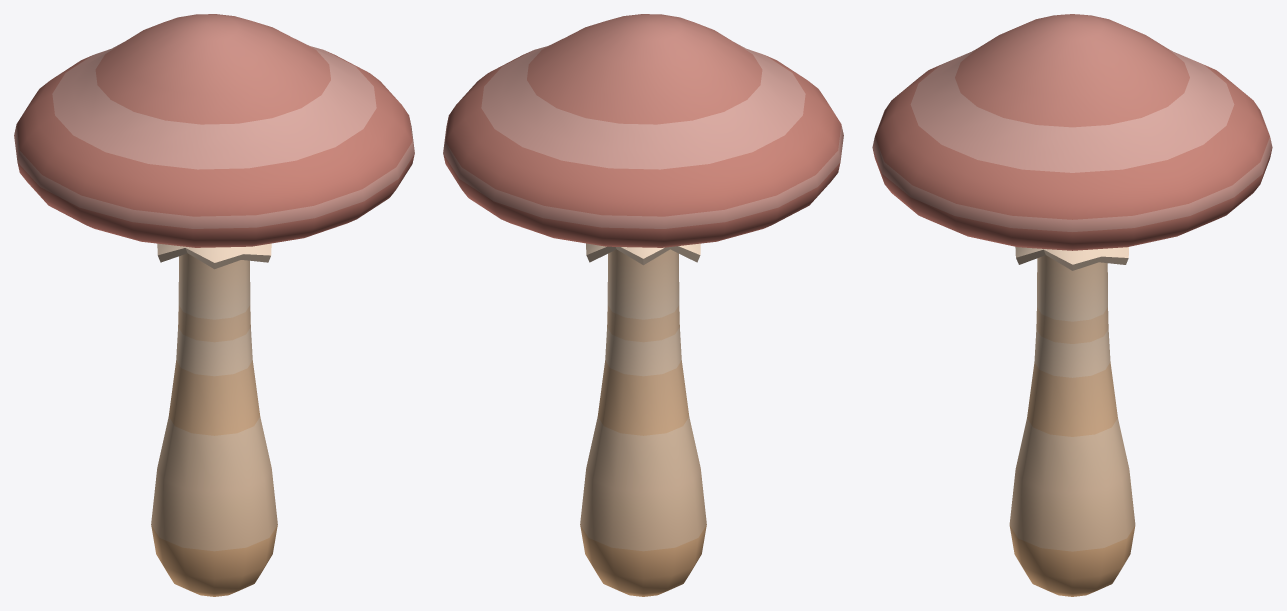
The model's file is Mushroom1.fbx.
The picture shows the model from 3 angles, left to right: view 1: azimuth 30°, elevation 25°; view 2: azimuth 150°, elevation 25°; view 3: azimuth 270°, elevation 25°; orthographic projection.
Parts seen in each view (by area): view 1: Mushroom1; view 2: Mushroom1; view 3: Mushroom1.
Part boxes in pixels (x1=…): Mushroom1: x1=14, y1=14, x2=414, y2=596; Mushroom1: x1=443, y1=14, x2=843, y2=596; Mushroom1: x1=872, y1=14, x2=1272, y2=596.
Size of the model in its own units: 500 by 776 by 500.
